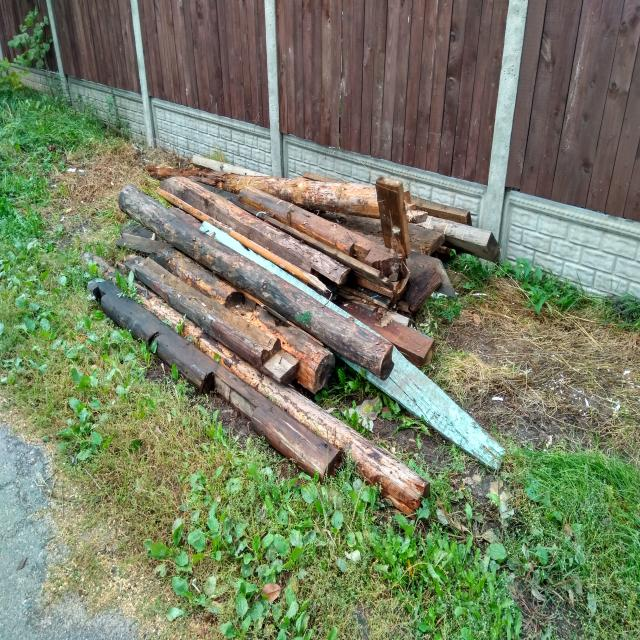entulho: (113, 170, 341, 431), (366, 342, 503, 469), (236, 383, 345, 482), (338, 416, 432, 519), (306, 214, 411, 296), (311, 298, 394, 381), (352, 292, 436, 363), (392, 257, 456, 311), (81, 252, 131, 320), (418, 217, 502, 256), (376, 174, 410, 260), (190, 151, 246, 199), (407, 193, 473, 224), (328, 184, 380, 216)
